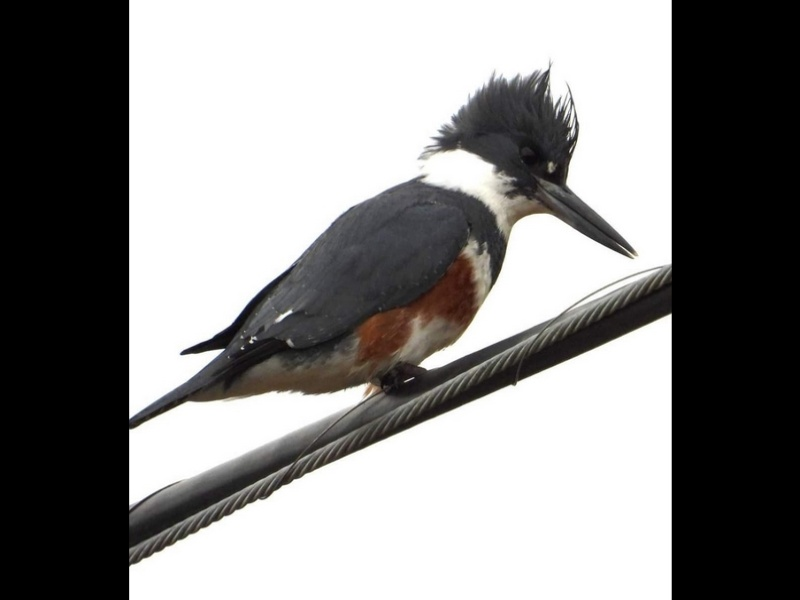kingfisher: (131, 58, 637, 455)
